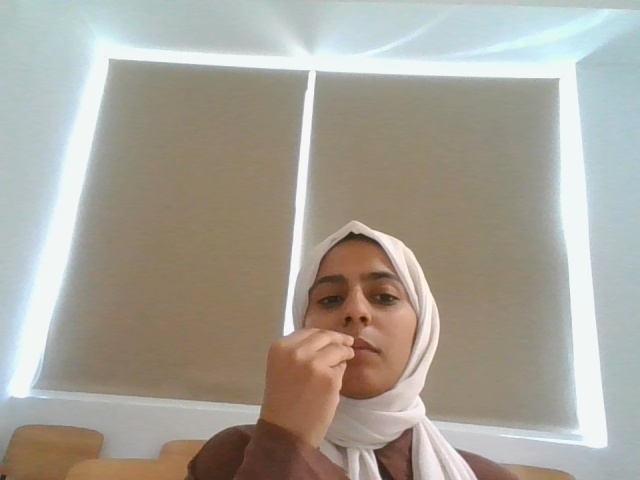eat: (258, 325, 358, 440)
